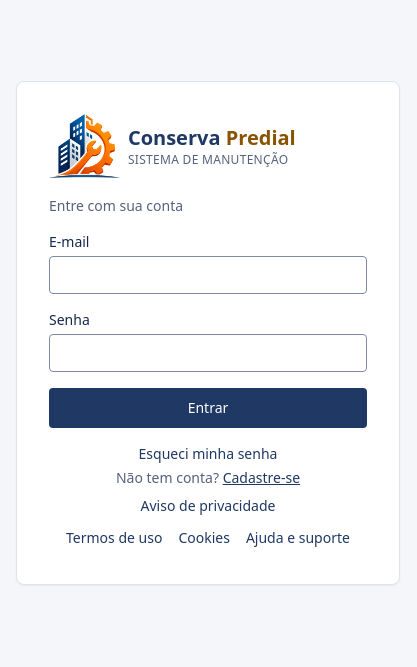
Test: Login com verificação em duas etapas › código errado mostra o erro e deixa tentar de novo
Step 1. Type "ana@exemplo.com" into the field labelled "E-mail" → point(208, 275), box 49,256 -> 367,294
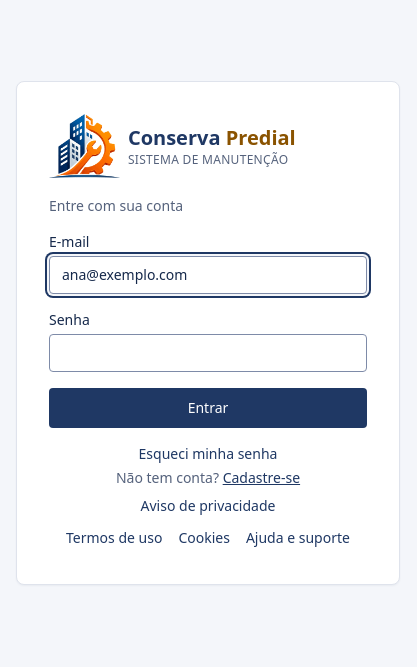
Step 2. Type "senha-teste-123" into the password field labelled "Senha" → point(208, 353), box 49,334 -> 367,372
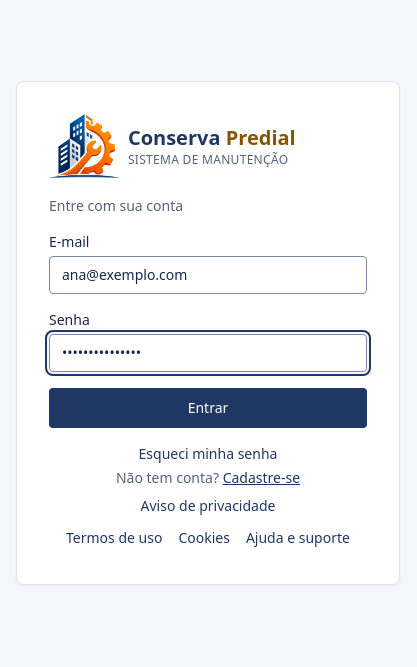
Step 3. Click the button "Entrar" → point(208, 408), box 49,388 -> 367,428
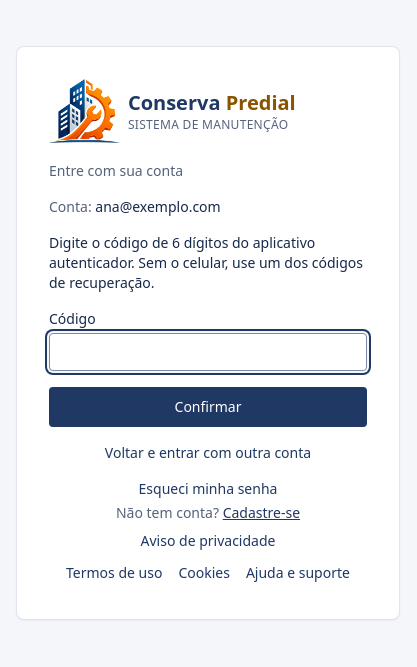
Step 4. Type "000000" into the field labelled "Código" → point(208, 352), box 49,333 -> 367,371
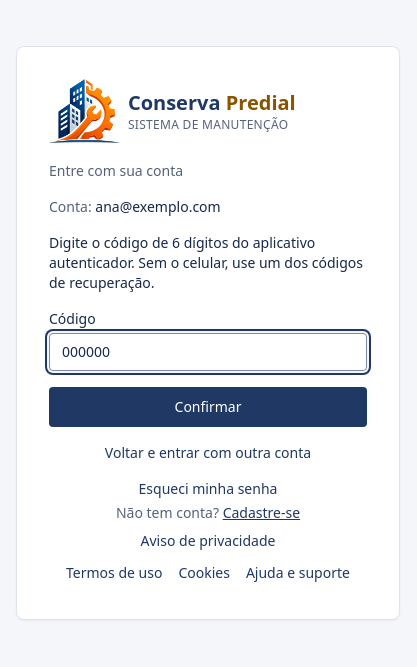
Step 5. Click the button "Confirmar" → point(208, 407), box 49,387 -> 367,427
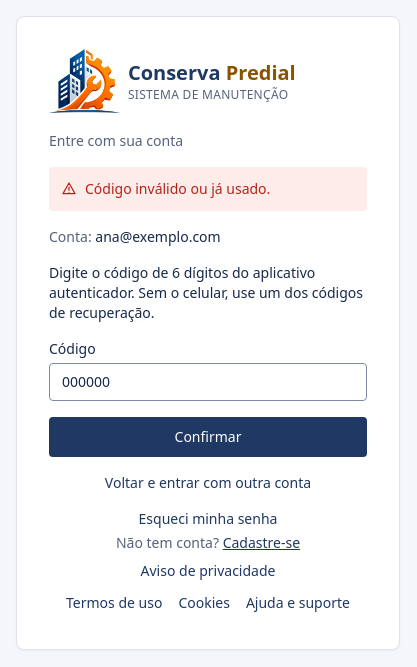
Now the text "Código inválido ou já usado." is shown, box 85,179 -> 270,198
